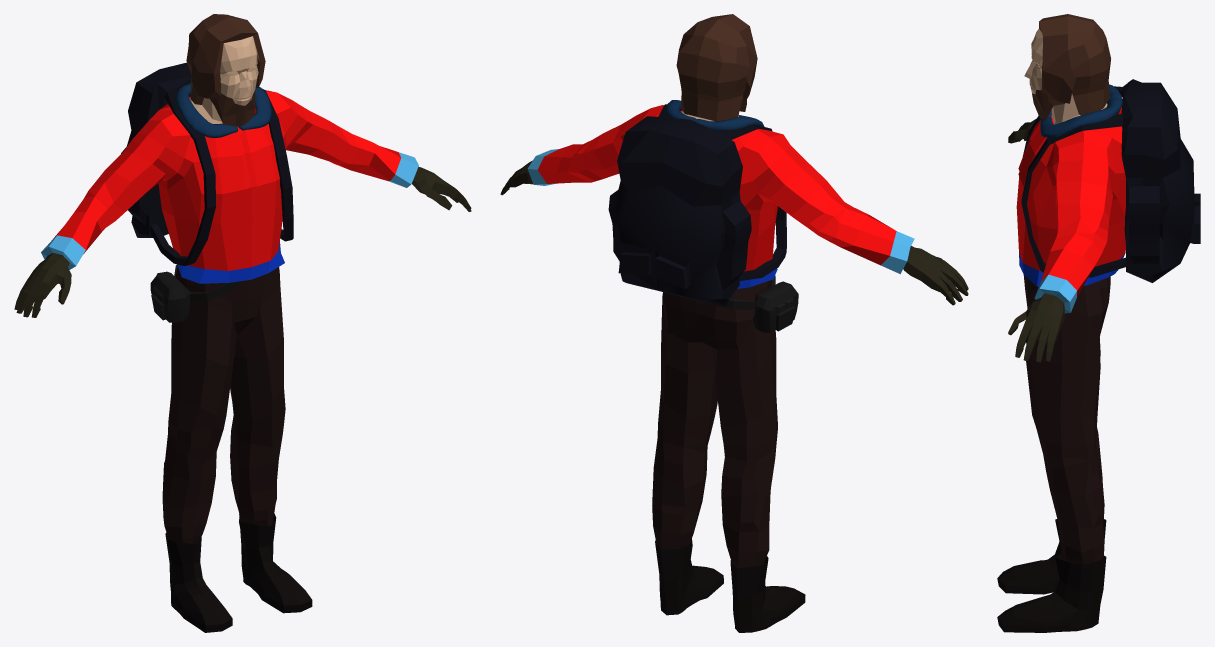
File: John.FBX
3 renders of one model, left to right at view 1: azimuth 30°, elevation 25°; view 2: azimuth 150°, elevation 25°; view 3: azimuth 270°, elevation 25°, orthographic. The views are drawn at different scales.
Parts seen in each view (by area): view 1: Object003, Object012, Box002, Object004, Object008, Object005, Object013, Box003, Object009, Object010, Object011; view 2: Object003, Box002, Object012, Object008, Object004, Object005, Box003, Object011, Object009; view 3: Object003, Box002, Object012, Object004, Object008, Object005, Object009, Object013, Object011, Object010.
Boxes of the visible parts, x1,y1,x2,y2 form: Object003: [162, 267, 285, 544]; Object012: [51, 90, 400, 270]; Box002: [121, 62, 293, 265]; Object004: [165, 513, 312, 632]; Object008: [186, 14, 265, 126]; Object005: [14, 166, 471, 317]; Object013: [190, 36, 259, 123]; Box003: [150, 264, 244, 322]; Object009: [175, 82, 272, 137]; Object010: [177, 241, 284, 283]; Object011: [41, 152, 418, 269]; Object003: [652, 280, 777, 568]; Box002: [608, 104, 786, 307]; Object012: [537, 105, 896, 271]; Object008: [676, 14, 757, 121]; Object004: [655, 539, 805, 632]; Object005: [500, 160, 968, 305]; Box003: [726, 275, 798, 332]; Object011: [527, 149, 914, 274]; Object009: [665, 100, 764, 131]; Object003: [1023, 275, 1110, 564]; Box002: [1021, 79, 1200, 282]; Object012: [1016, 107, 1125, 296]; Object004: [997, 519, 1106, 632]; Object008: [1032, 14, 1110, 120]; Object005: [1008, 118, 1064, 362]; Object009: [1040, 84, 1122, 137]; Object013: [1024, 29, 1107, 124]; Object011: [1034, 274, 1076, 313]; Object010: [1019, 253, 1125, 286].
Bounding box in the file's own units: 181 × 224 × 69.92.
